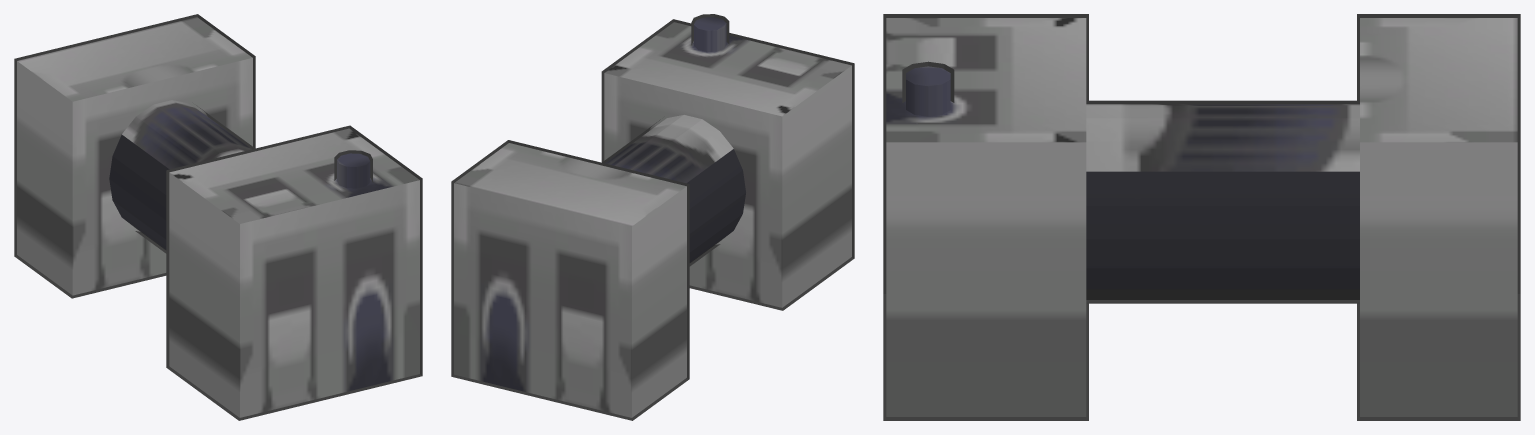
The model's file is Building_DeathrestAccelerator.glb.
3 views of the same model, side by side, from view 1: azimuth 30°, elevation 25°; view 2: azimuth 150°, elevation 25°; view 3: azimuth 270°, elevation 25° (orthographic). The views are drawn at different scales.
Parts seen in each view (by area): view 1: DeathrestAccelerator, Outline; view 2: DeathrestAccelerator, Outline; view 3: DeathrestAccelerator, Outline.
Boxes of the visible parts, x1=… form: DeathrestAccelerator: x1=17, y1=17, x2=419, y2=417; Outline: x1=14, y1=14, x2=422, y2=420; DeathrestAccelerator: x1=454, y1=17, x2=851, y2=417; Outline: x1=451, y1=14, x2=854, y2=420; DeathrestAccelerator: x1=886, y1=18, x2=1517, y2=416; Outline: x1=883, y1=14, x2=1520, y2=420.
Bounding box in the file's own units: 0.8923 × 1.02 × 1.89.
Materials: 2 (1 with a texture image).
